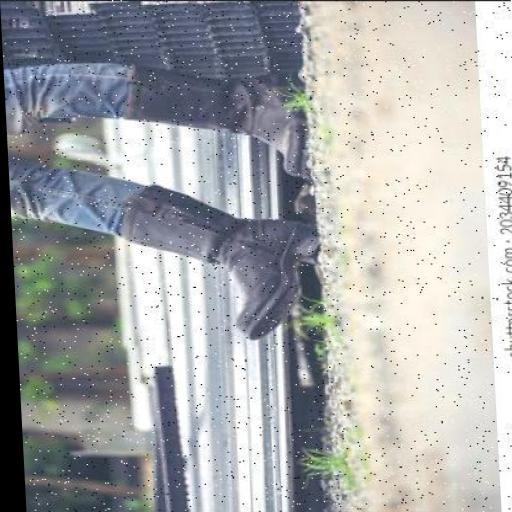safety_boots: (124, 176, 346, 370), (128, 65, 347, 174)
